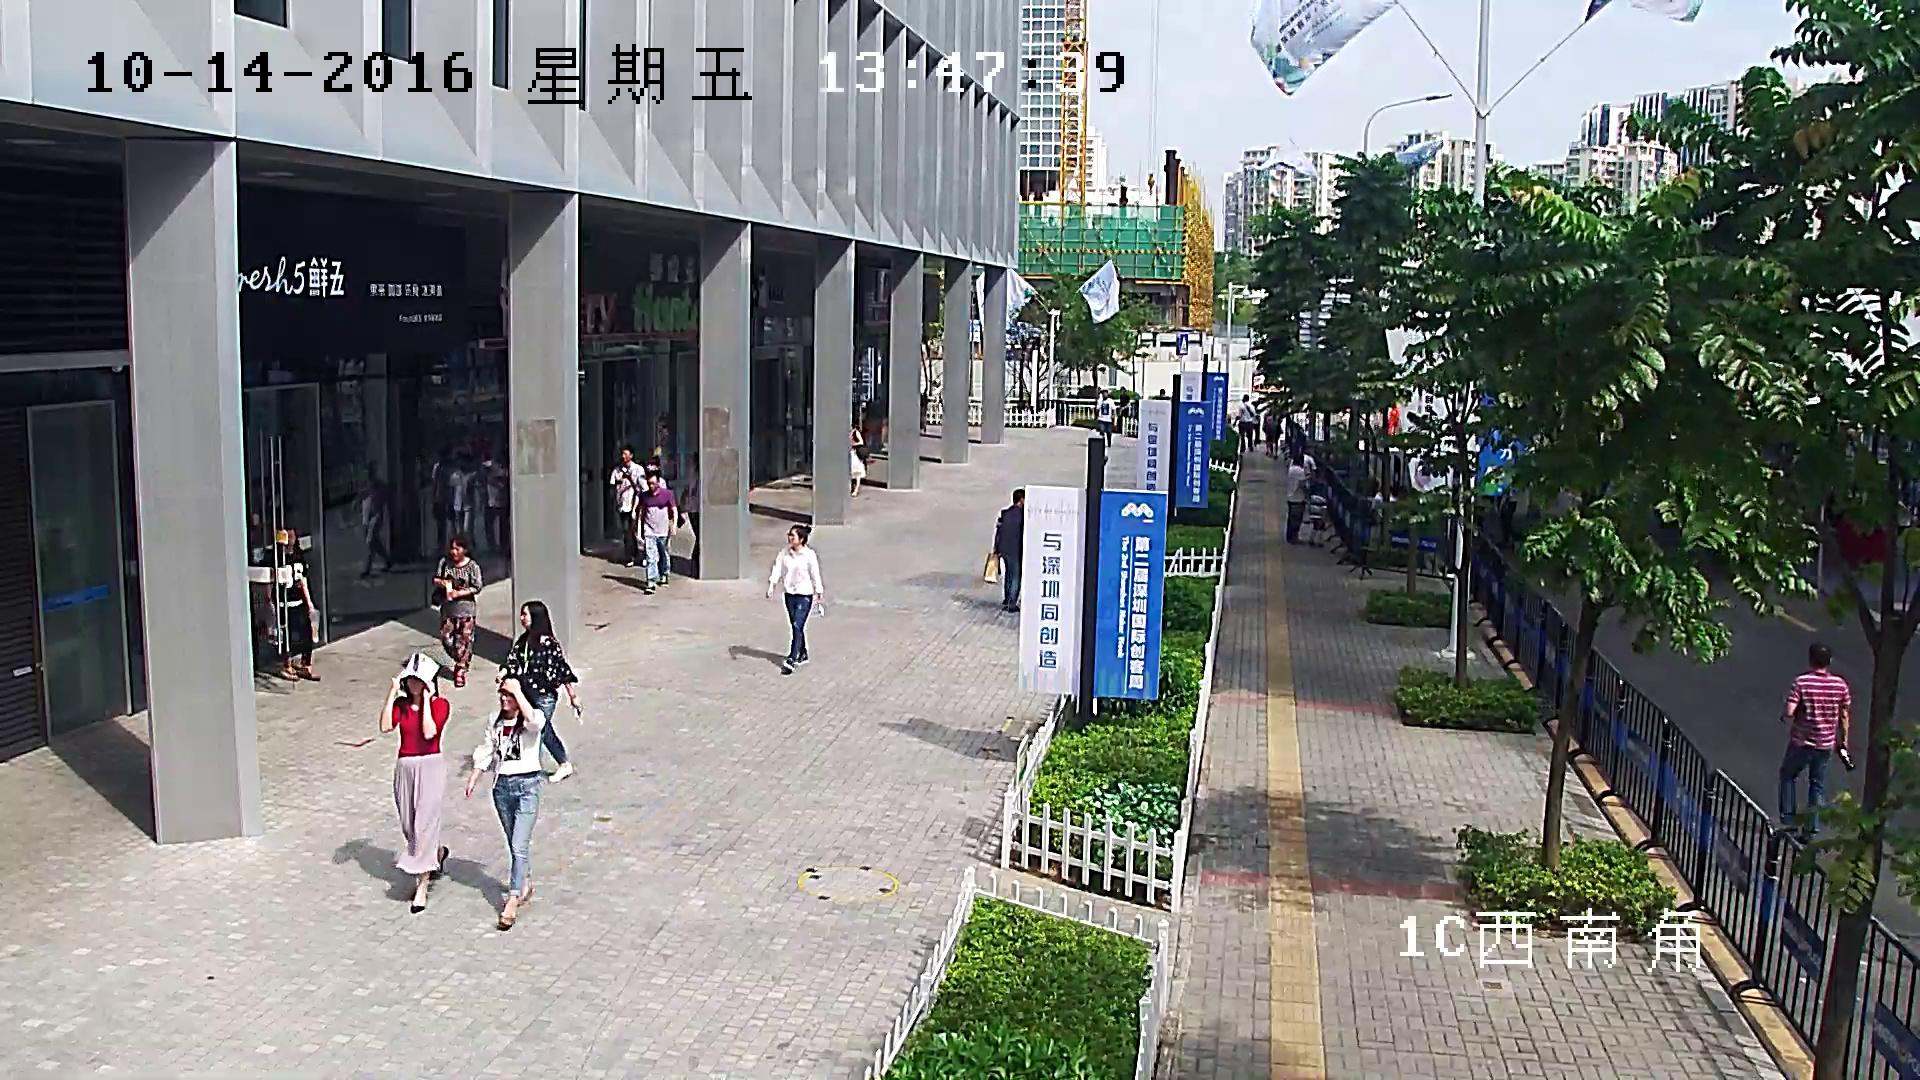person: (464, 675, 546, 929), (380, 652, 449, 912), (495, 600, 581, 781), (1779, 642, 1854, 833), (766, 524, 824, 669), (265, 526, 319, 679), (431, 535, 481, 687), (983, 488, 1024, 611), (635, 470, 677, 594), (352, 478, 395, 576), (609, 446, 644, 567), (478, 459, 509, 552), (447, 453, 477, 551), (631, 456, 665, 519), (1285, 456, 1307, 544), (682, 451, 699, 562), (431, 445, 449, 549), (1232, 393, 1255, 453), (847, 426, 865, 497), (1308, 482, 1328, 547), (1289, 443, 1318, 487), (1495, 496, 1518, 550), (1096, 389, 1115, 446), (1263, 414, 1282, 457), (1386, 405, 1400, 433), (1119, 387, 1130, 416)
